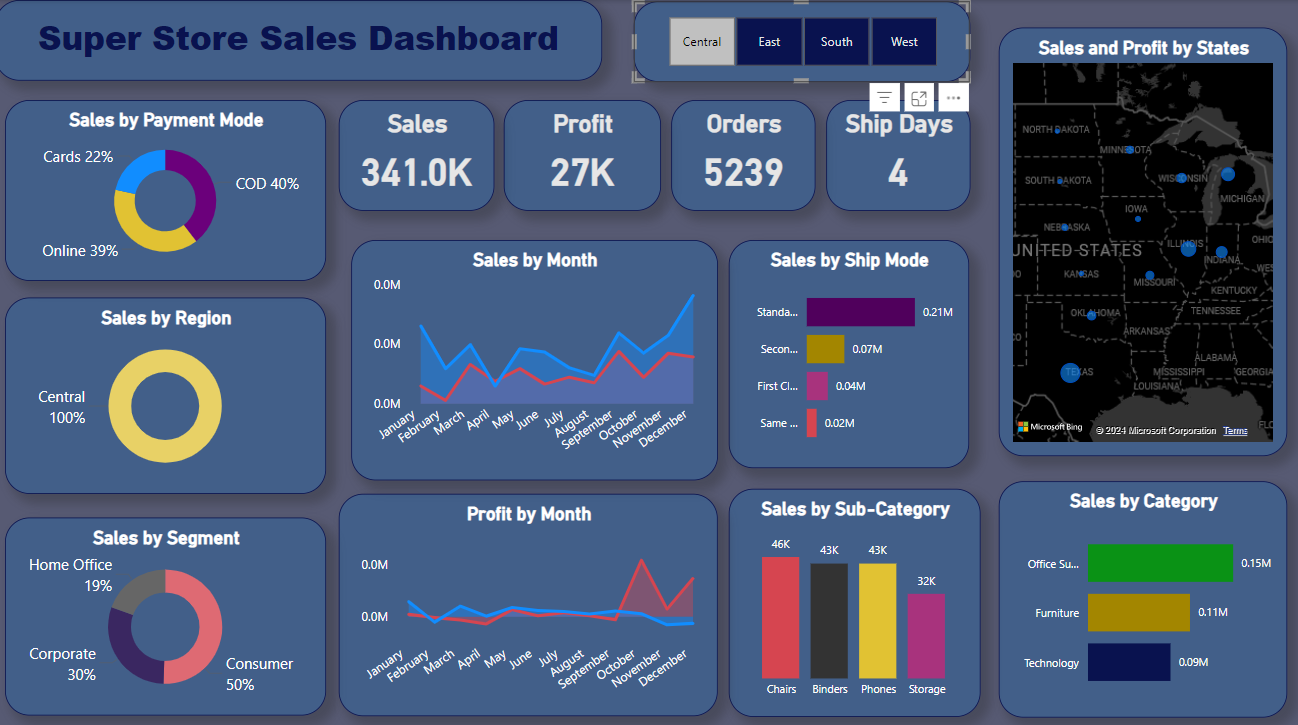

This screenshot's page, from the dashboard's own definition file:
{"tool":"powerbi","page":{"name":"Dashboard","canvas":[1280,720],"ordinal":0},"visuals":[{"type":"textbox","box":[0,0,595.8,79.2],"z":0},{"type":"donutChart","title":"Sales by Payment Mode ","fields":{"Category":["SuperStore_Sales_Dataset.Payment Mode"],"Y":["CountNonNull(SuperStore_Sales_Dataset.Payment Mode)"]},"box":[9.7,98.6,315.3,177.8],"z":1000},{"type":"donutChart","title":"Sales by Region ","fields":{"Category":["SuperStore_Sales_Dataset.Region"],"Y":["CountNonNull(SuperStore_Sales_Dataset.Region)"]},"box":[9.7,291.7,315.3,193.1],"z":2000},{"type":"donutChart","title":"Sales by Segment","fields":{"Category":["SuperStore_Sales_Dataset.Segment"],"Y":["CountNonNull(SuperStore_Sales_Dataset.Segment)"]},"box":[9.7,508.3,315.3,194.4],"z":3000},{"type":"barChart","title":"Sales by Ship Mode","fields":{"Category":["SuperStore_Sales_Dataset.Ship Mode"],"Y":["Sum(SuperStore_Sales_Dataset.Sales)"]},"box":[720.8,236.1,236.1,223.6],"z":4000},{"type":"barChart","title":"Sales by Category","fields":{"Category":["SuperStore_Sales_Dataset.Category"],"Y":["Sum(SuperStore_Sales_Dataset.Sales)"]},"box":[984.7,472.2,283.3,231.9],"z":5000},{"type":"columnChart","title":"Sales by Sub-Category","fields":{"Category":["SuperStore_Sales_Dataset.Sub-Category"],"Y":["Sum(SuperStore_Sales_Dataset.Sales)"]},"box":[720.8,479.2,247.2,223.6],"z":6000},{"type":"card","title":"Sales","fields":{"Values":["SuperStore_Sales_Dataset.Total Sales"]},"box":[337.1,98.6,152.9,108.6],"z":7000},{"type":"card","title":"Profit","fields":{"Values":["Sum(SuperStore_Sales_Dataset.Profit)"]},"box":[500,98.6,154.3,108.6],"z":8000},{"type":"card","title":"Orders","fields":{"Values":["Sum(SuperStore_Sales_Dataset.Quantity)"]},"box":[664.3,98.6,141.4,108.6],"z":9000},{"type":"card","title":"Ship Days ","fields":{"Values":["SuperStore_Sales_Dataset.Shipday"]},"box":[815.7,98.6,141.4,108.6],"z":10000},{"type":"slicer","fields":{"Values":["SuperStore_Sales_Dataset.Region"]},"box":[626.4,1.4,330.6,79.2],"z":11000},{"type":"map","title":"Sales and Profit by States","fields":{"Category":["SuperStore_Sales_Dataset.State"],"Size":["Sum(SuperStore_Sales_Dataset.Sales)"]},"box":[984.7,26.4,283.3,420.8],"z":12000},{"type":"areaChart","title":" Sales by Month ","fields":{"Category":["SuperStore_Sales_Dataset.Order Date.Variation.Date Hierarchy.Month"],"Series":["SuperStore_Sales_Dataset.Order Date.Variation.Date Hierarchy.Year"],"Y":["Sum(SuperStore_Sales_Dataset.Sales)"]},"box":[350,236.1,359.7,236.1],"z":13000},{"type":"areaChart","title":"Profit  by Month ","fields":{"Category":["SuperStore_Sales_Dataset.Order Date.Variation.Date Hierarchy.Month"],"Series":["SuperStore_Sales_Dataset.Order Date.Variation.Date Hierarchy.Year"],"Y":["Sum(SuperStore_Sales_Dataset.Profit)"]},"box":[337.5,484.7,372.2,218.1],"z":14000}]}

Visuals, with their boxes in screenshot pixels (x1, y1, x2, y2), scaled from the page's 1280x720 canvas onto the 1298x725 screenshot:
textbox: box=[0, 0, 604, 80]
"Sales by Payment Mode " donutChart: box=[10, 99, 330, 278]
"Sales by Region " donutChart: box=[10, 294, 330, 488]
"Sales by Segment" donutChart: box=[10, 512, 330, 708]
"Sales by Ship Mode" barChart: box=[731, 238, 970, 463]
"Sales by Category" barChart: box=[999, 475, 1286, 709]
"Sales by Sub-Category" columnChart: box=[731, 483, 982, 708]
"Sales" card: box=[342, 99, 497, 209]
"Profit" card: box=[507, 99, 664, 209]
"Orders" card: box=[674, 99, 817, 209]
"Ship Days " card: box=[827, 99, 971, 209]
slicer - SuperStore_Sales_Dataset.Region: box=[635, 1, 970, 81]
"Sales and Profit by States" map: box=[999, 27, 1286, 450]
" Sales by Month " areaChart: box=[355, 238, 720, 475]
"Profit  by Month " areaChart: box=[342, 488, 720, 708]
